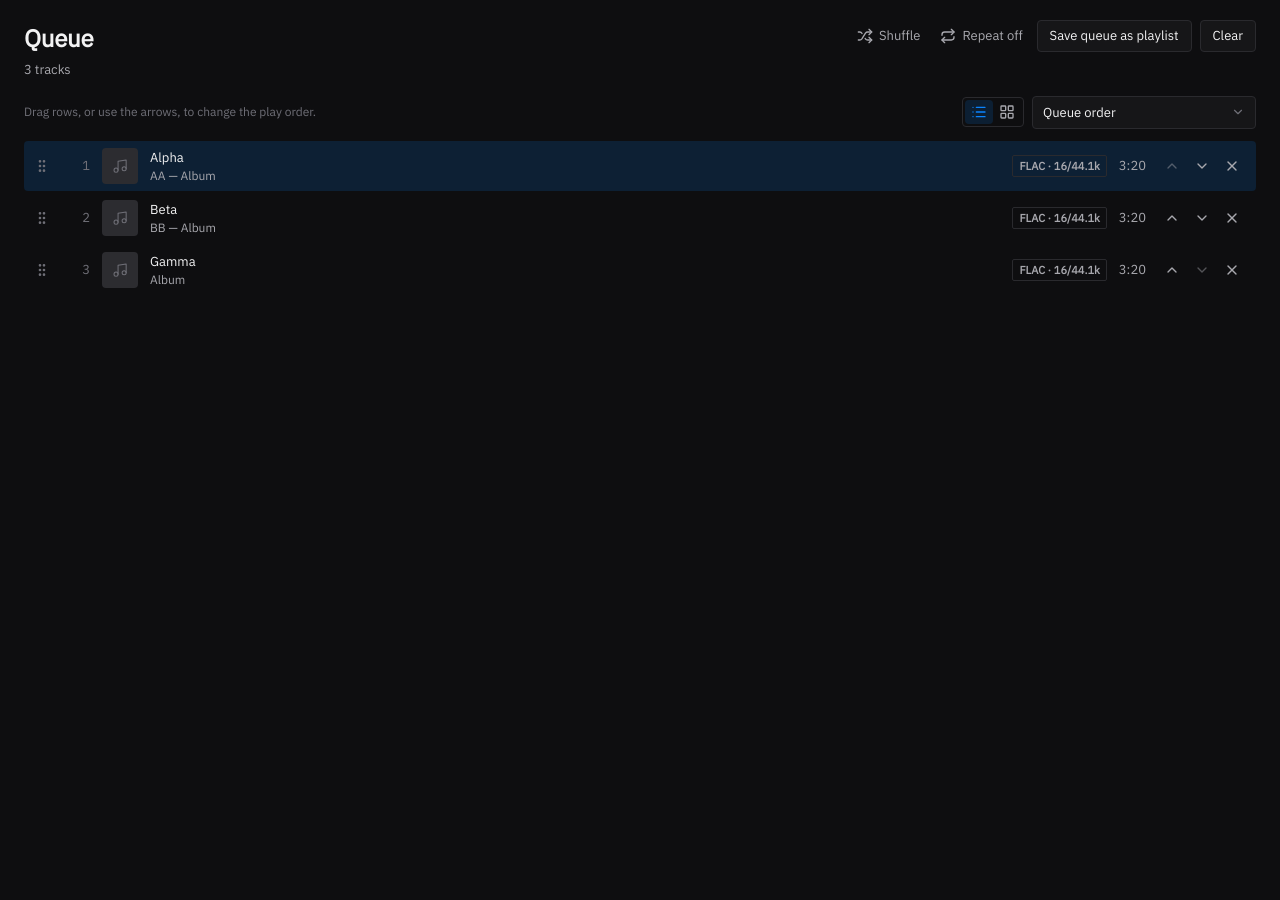
Test: QueueView › save as playlist (dialog instead of window.prompt) › asks for a name, then saves the queue's track ids
The image size is (1280, 900).
Click the button "Save queue as playlist" at (1114, 36), box [1037,20,1192,52]
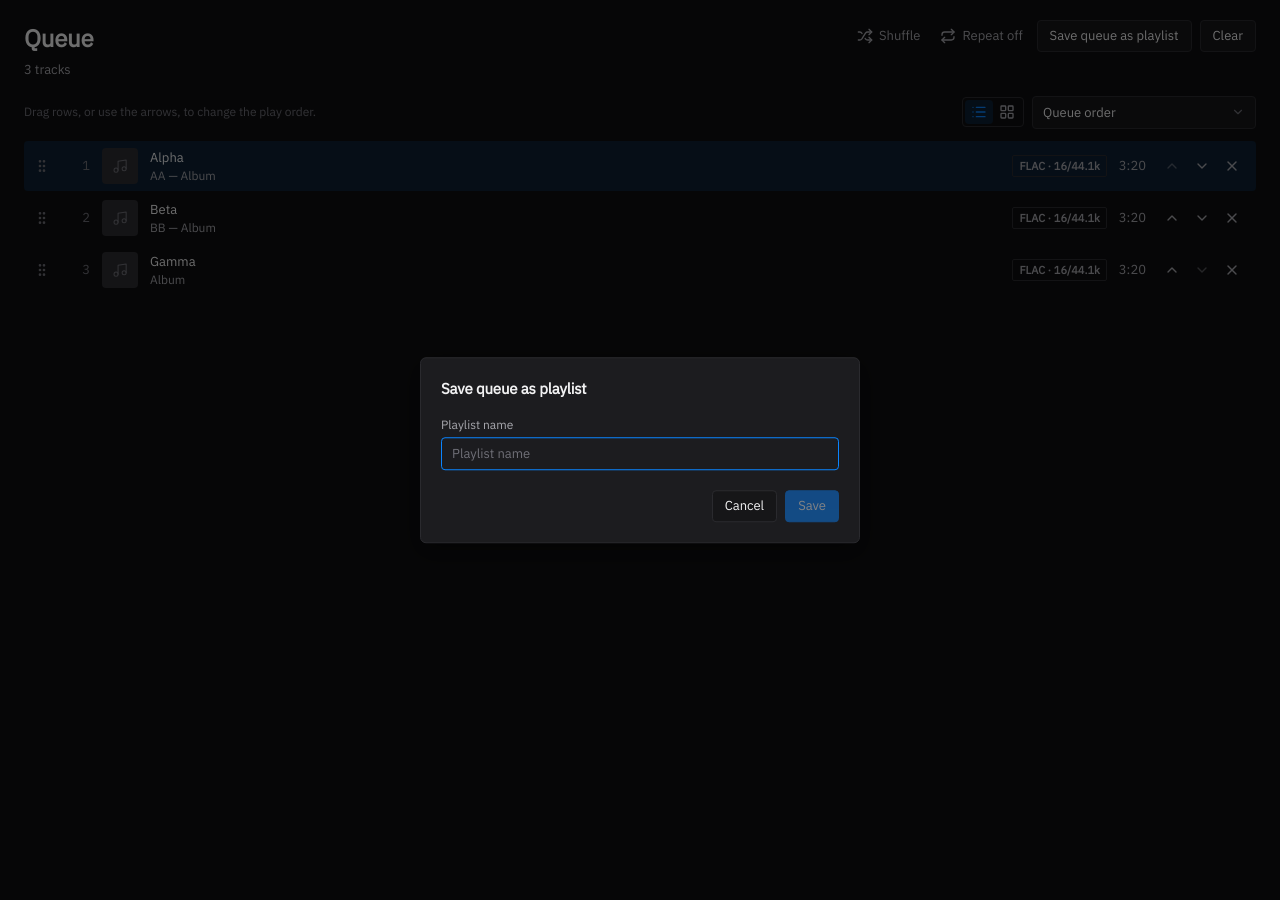
Check: the dialog shows "Save queue as playlist", box [441,379,586,398]
Type "  Evening " into the field with placeholder "Playlist name" at (640, 454), box [441,437,839,470]
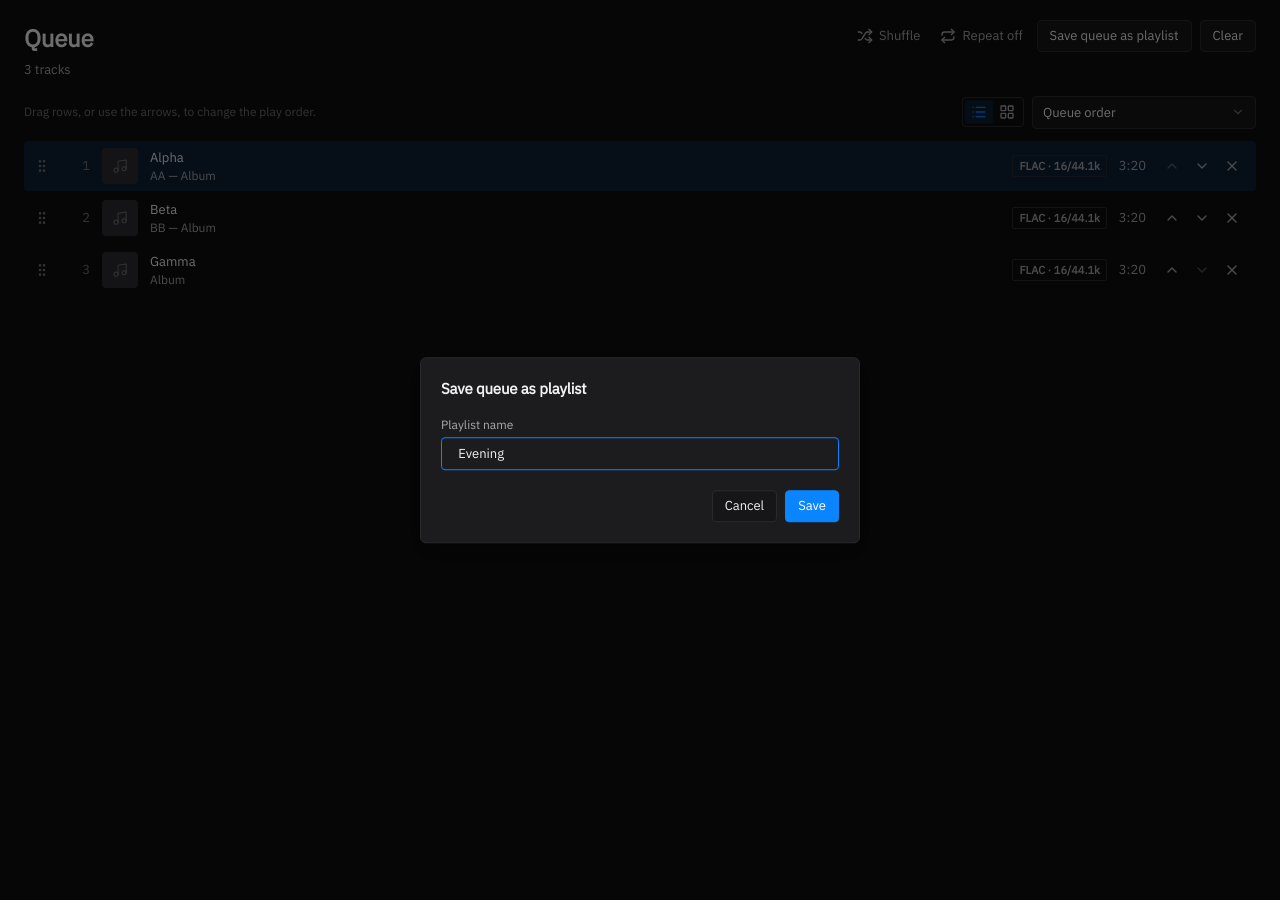
Click the button "Save" at (812, 506), box [785,490,839,522]
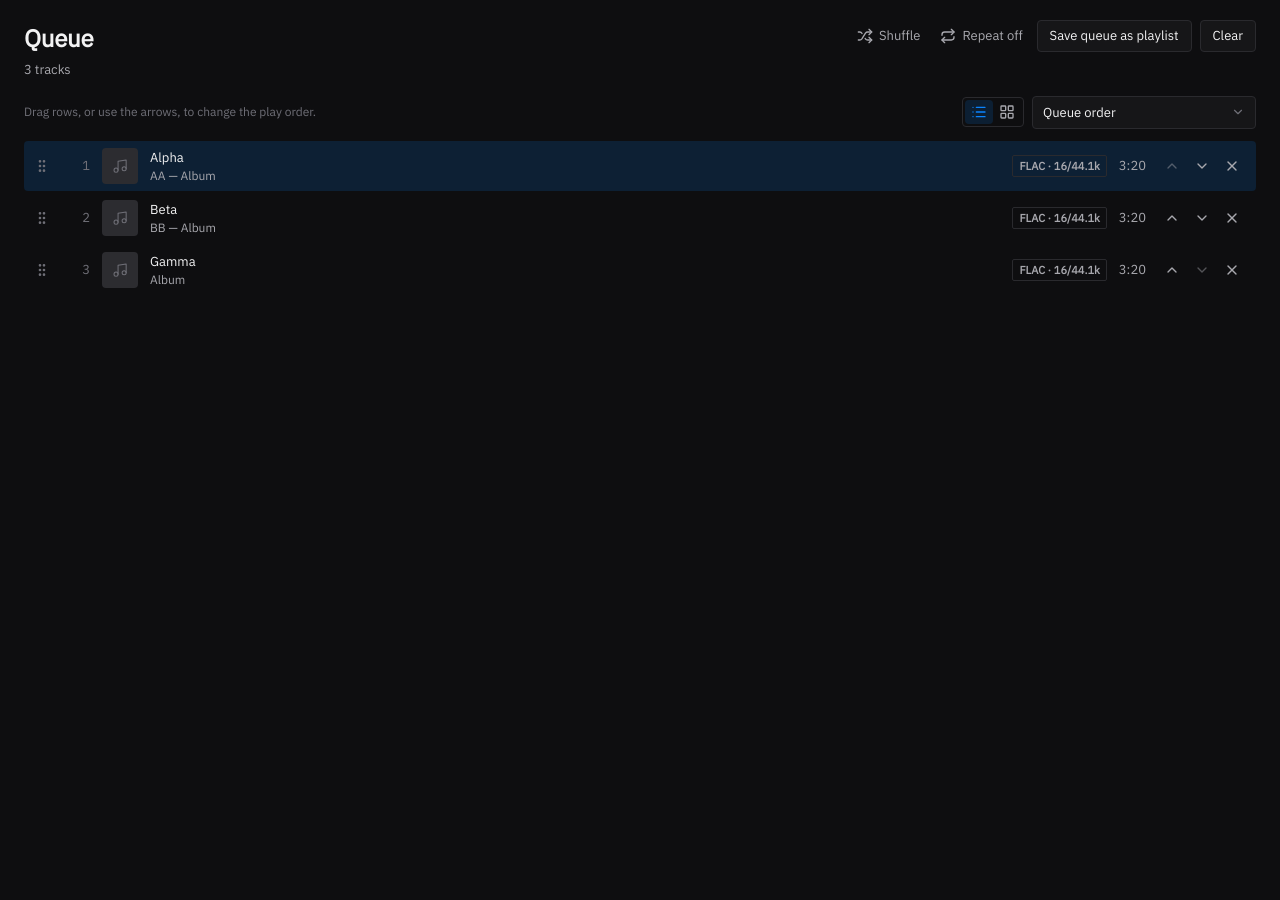
Check: the dialog is gone
